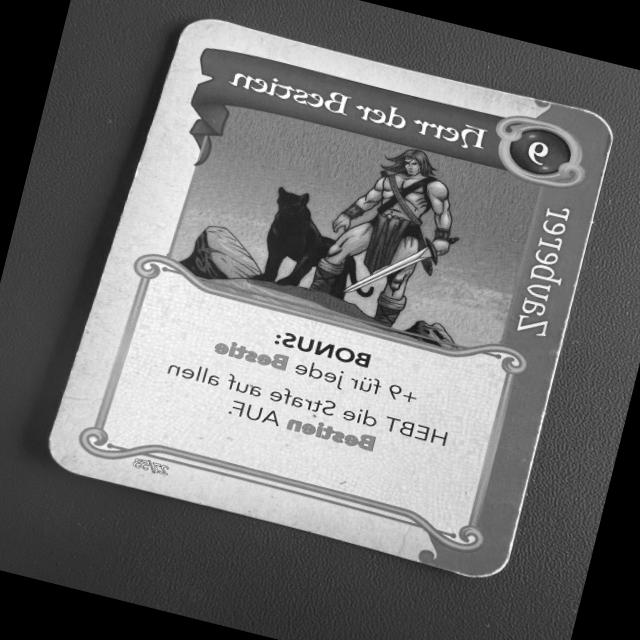Beast Master: (36, 10, 617, 586)
